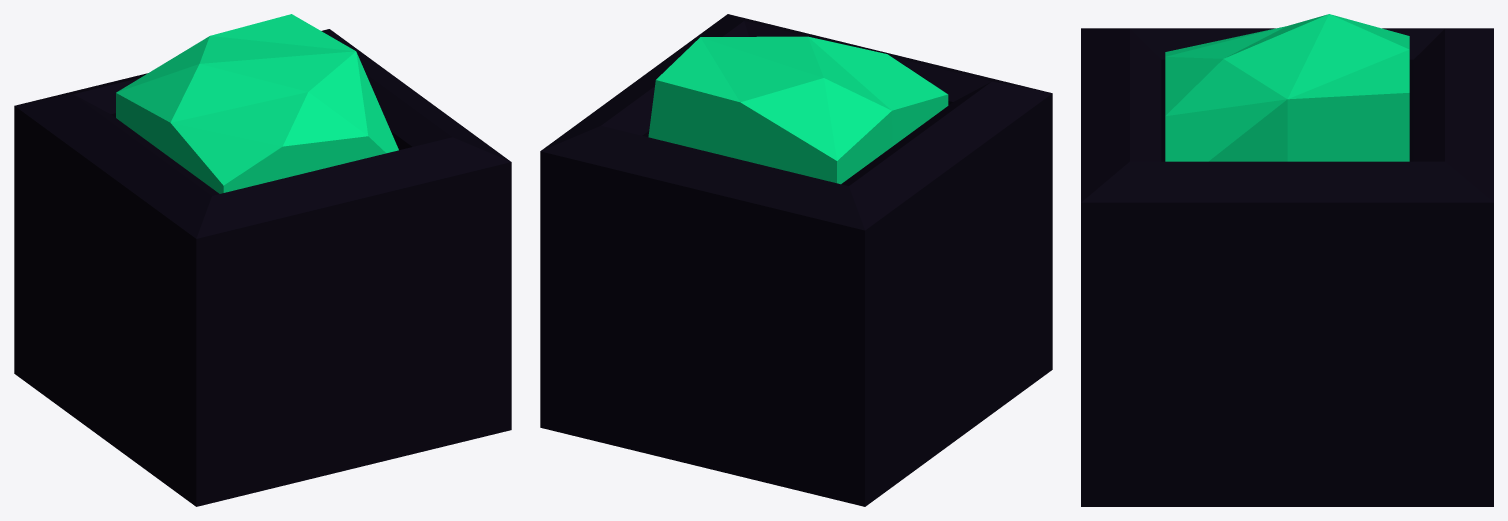
The model's file is glowy_box_4.gltf.
3 views of the same model, side by side, from view 1: azimuth 30°, elevation 25°; view 2: azimuth 150°, elevation 25°; view 3: azimuth 270°, elevation 25° (orthographic). The views are drawn at different scales.
Parts seen in each view (by area): view 1: Cube; view 2: Cube; view 3: Cube.
Boxes of the visible parts, left/top/right/bottom form: Cube: left=14, top=14, right=511, bottom=506; Cube: left=540, top=14, right=1052, bottom=506; Cube: left=1081, top=14, right=1493, bottom=506.
Size of the model in its own units: 1 by 1.02 by 1.
